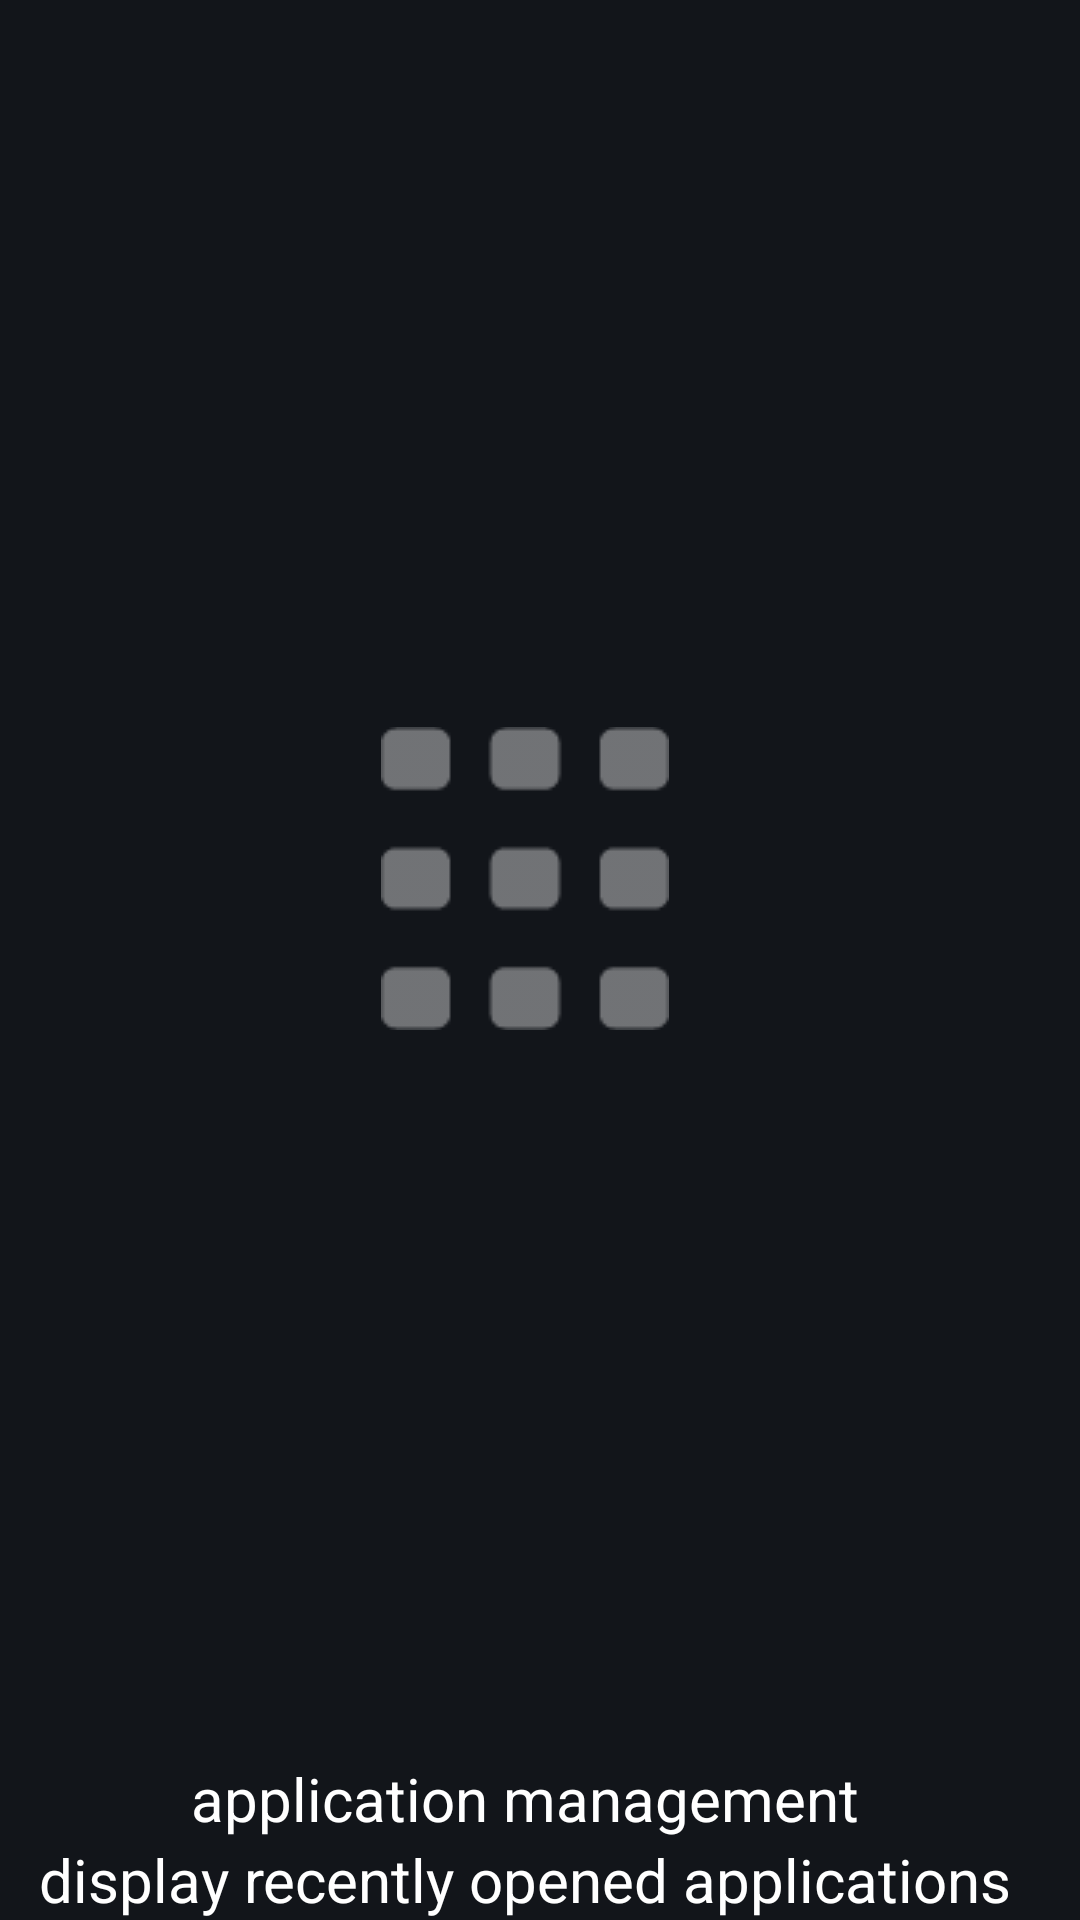

Where to tap for icons on this 1080px×1920px app screen, as (x=x, y=y):
app: (x=525, y=878)
